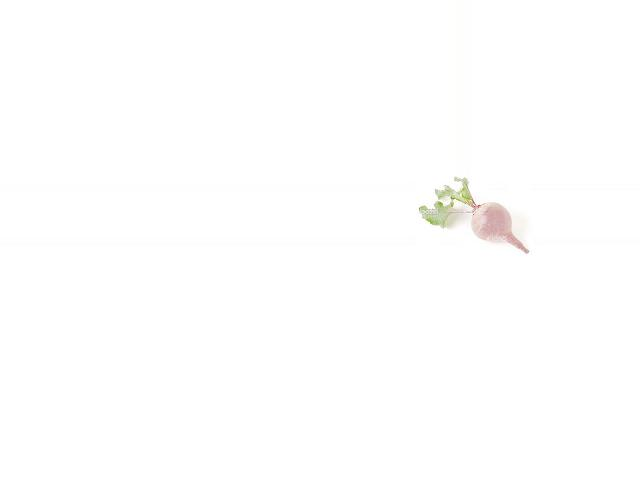beet: (418, 176, 528, 253)
